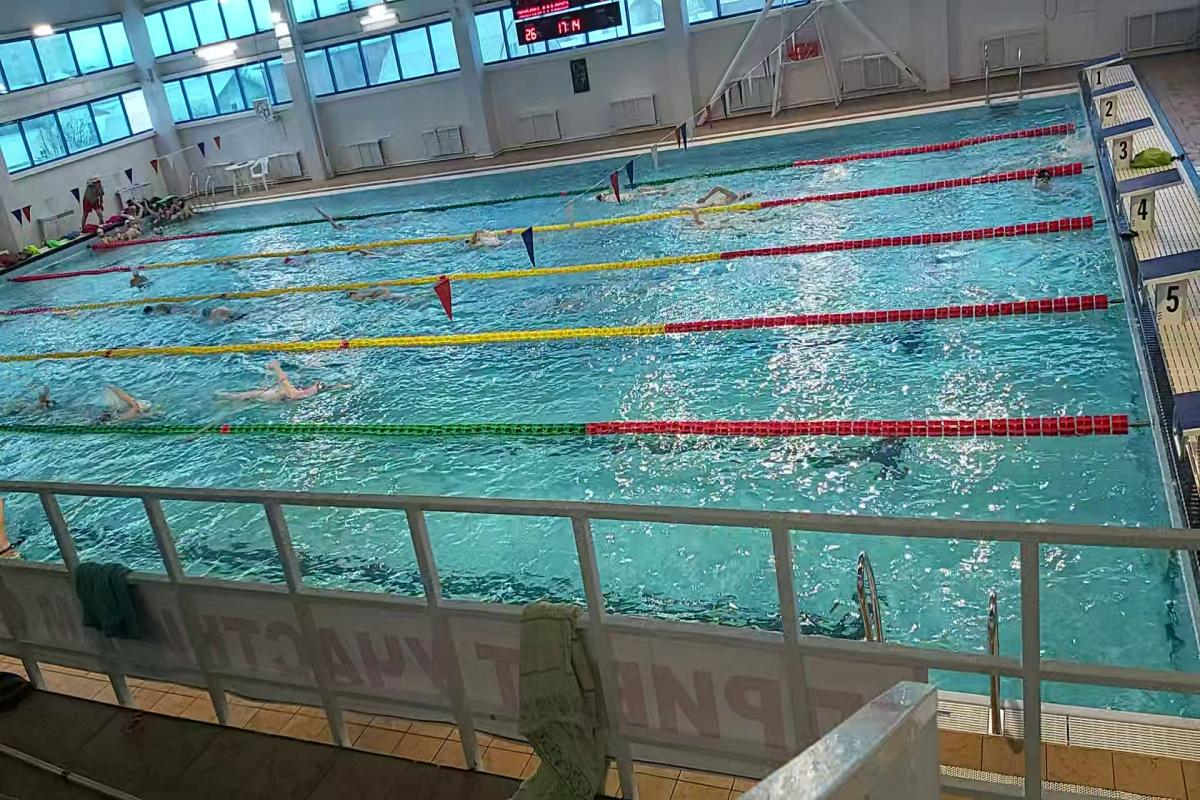swimmer: (206, 355, 369, 412), (94, 376, 171, 416), (593, 184, 678, 203), (130, 301, 191, 325), (702, 180, 761, 203), (200, 298, 248, 325), (1028, 170, 1068, 196), (457, 229, 503, 251)
